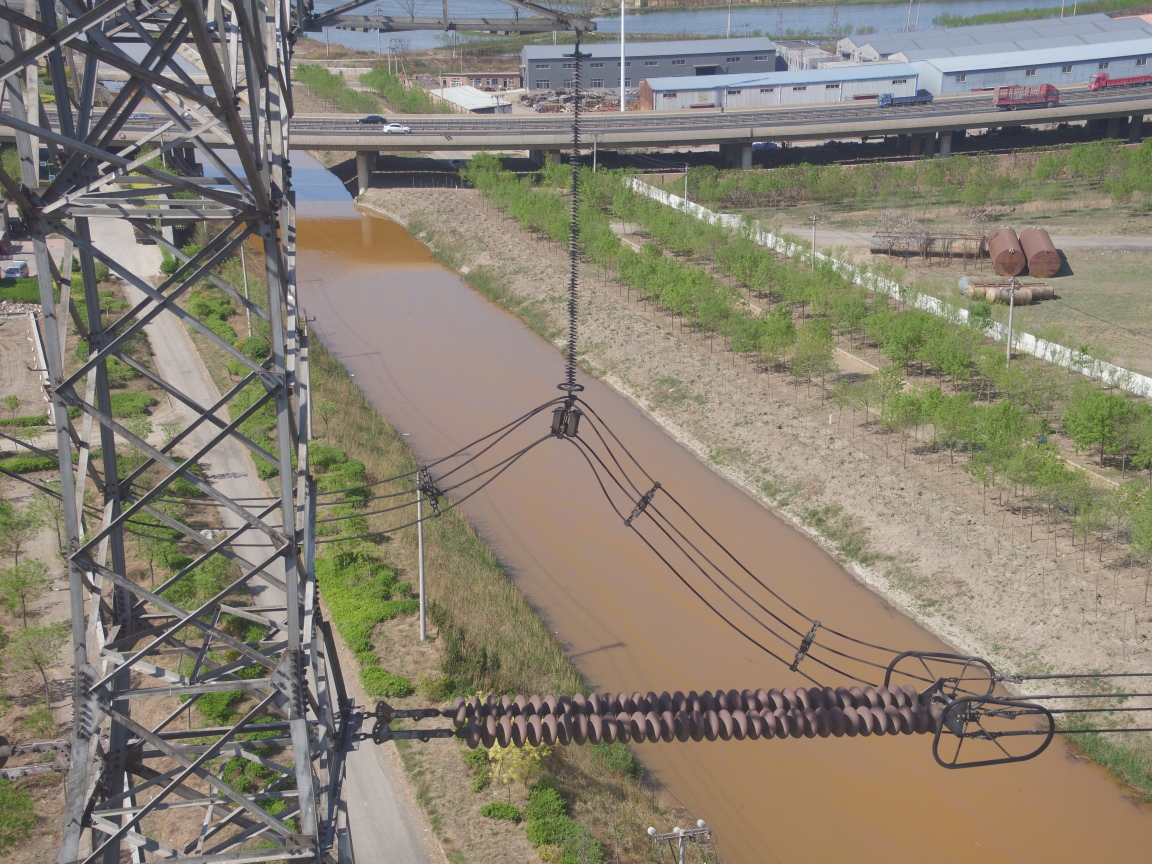insulator: (422, 675, 951, 751)
